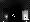person: (23, 8, 29, 20), (4, 9, 10, 20)
